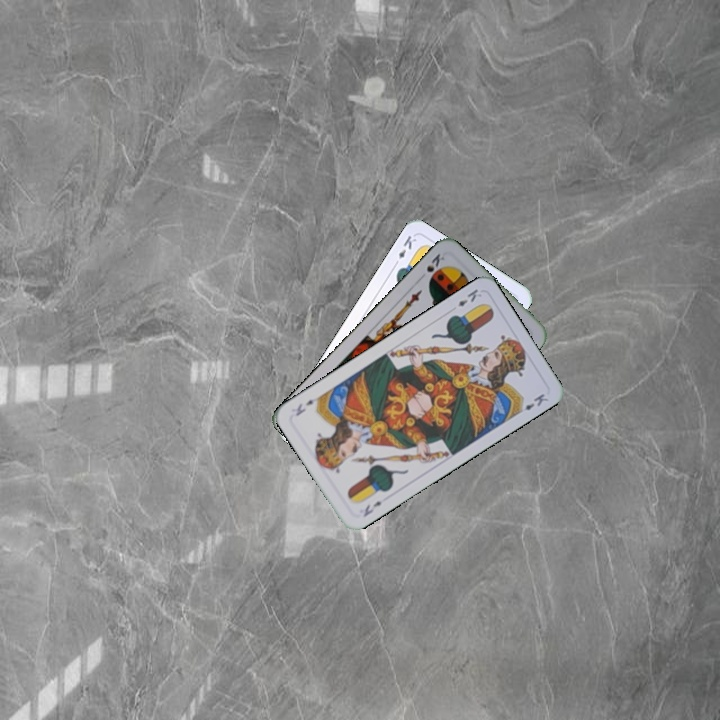EK: (390, 231, 419, 269), (454, 285, 484, 309), (359, 497, 384, 520)
SK: (415, 249, 447, 283)
